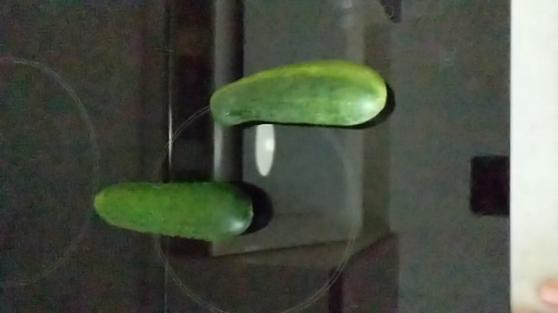cucumber: (207, 59, 387, 128), (91, 178, 255, 238)
